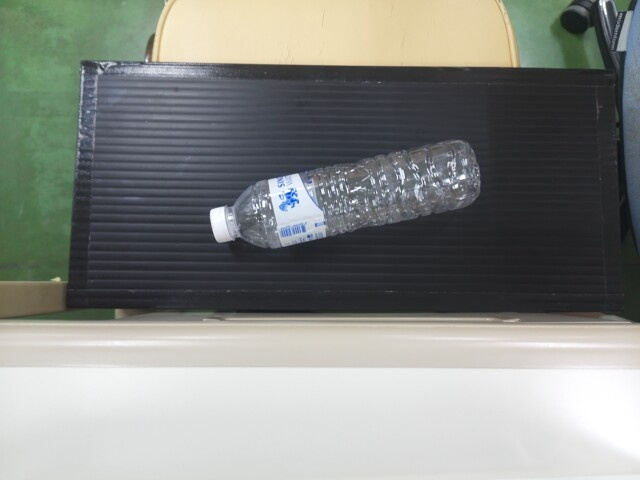plastic_bottle: (207, 139, 483, 244)
